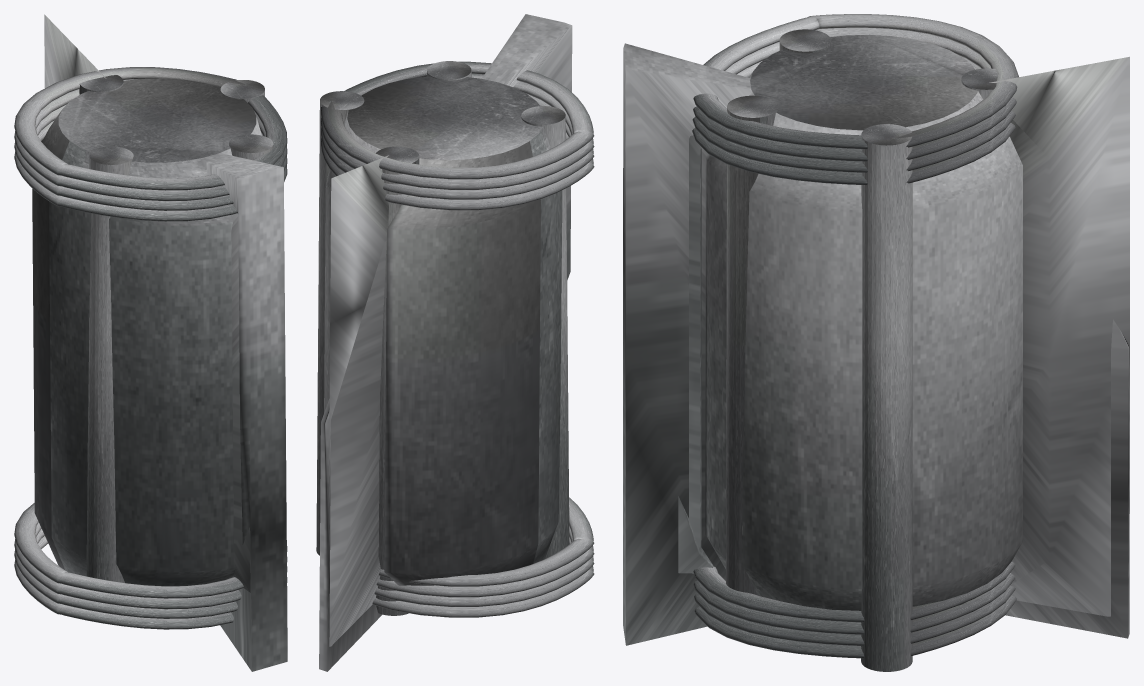
The model's file is pieza12.fbx.
3 views of the same model, side by side, from view 1: azimuth 30°, elevation 25°; view 2: azimuth 150°, elevation 25°; view 3: azimuth 270°, elevation 25° (orthographic). The views are drawn at different scales.
Parts seen in each view (by area): view 1: BezierCircle.022; view 2: BezierCircle.022; view 3: BezierCircle.022.
Part boxes in pixels (x1=…): BezierCircle.022: x1=14, y1=14, x2=287, y2=671; BezierCircle.022: x1=316, y1=14, x2=594, y2=671; BezierCircle.022: x1=623, y1=14, x2=1129, y2=671.
Bounding box in the file's own units: 157 × 304 × 243.
Materials: 13 (13 with a texture image).
